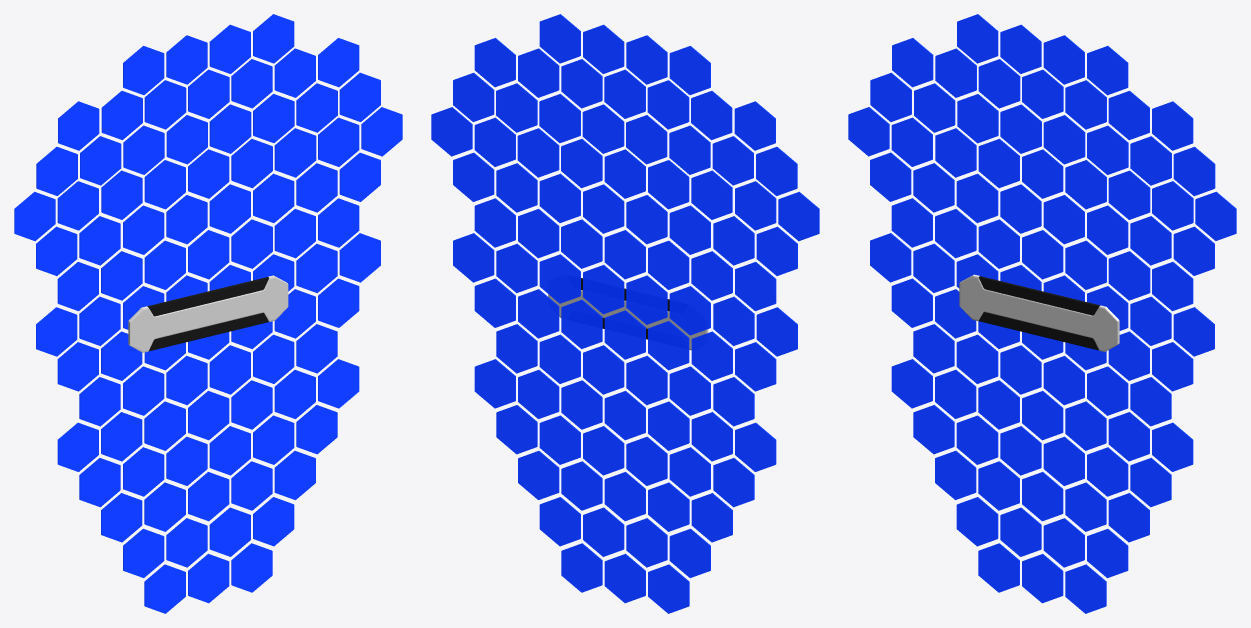
Rendered from Shield.FBX.
3 renders of one model, left to right at view 1: azimuth 30°, elevation 25°; view 2: azimuth 150°, elevation 25°; view 3: azimuth 330°, elevation 25°, orthographic.
Visible parts, largest first — view 1: Box008, NGon014, NGon024, NGon006, NGon048, NGon064, NGon019, NGon020, NGon026, NGon036, NGon049, NGon066 (+80 smaller); view 2: NGon014, NGon024, NGon006, NGon048, NGon064, NGon019, NGon020, NGon026, NGon036, NGon049, NGon052, NGon060 (+78 smaller); view 3: Box008, NGon042, NGon038, NGon024, NGon068, NGon081, NGon091, NGon003, NGon006, NGon014, NGon069, NGon080 (+80 smaller).
Part boxes in pixels (x1,y1,x2,y2): Box008: (128, 275, 288, 352); NGon014: (274, 128, 316, 177); NGon024: (144, 80, 186, 129); NGon006: (209, 104, 251, 153); NGon048: (296, 243, 337, 293); NGon064: (296, 324, 337, 373); NGon019: (57, 181, 98, 230); NGon020: (14, 191, 55, 241); NGon026: (58, 101, 99, 150); NGon036: (209, 184, 250, 233); NGon049: (339, 233, 380, 282); NGon066: (209, 345, 250, 394); NGon014: (517, 128, 559, 177); NGon024: (647, 80, 689, 129); NGon006: (582, 104, 624, 153); NGon048: (496, 243, 537, 293); NGon064: (496, 324, 537, 373); NGon019: (735, 181, 776, 230); NGon020: (778, 191, 819, 241); NGon026: (734, 101, 775, 150); NGon036: (583, 184, 624, 233); NGon049: (453, 233, 494, 282); NGon052: (626, 275, 667, 324); NGon060: (604, 310, 645, 359); Box008: (959, 274, 1119, 351); NGon042: (1108, 251, 1150, 300); NGon038: (956, 173, 998, 223); NGon024: (978, 59, 1020, 108); NGon068: (956, 334, 998, 383); NGon081: (956, 415, 998, 464); NGon091: (956, 497, 998, 546); NGon003: (1173, 146, 1215, 196); NGon006: (1043, 115, 1085, 164); NGon014: (1108, 170, 1150, 219); NGon069: (913, 324, 954, 373); NGon080: (1000, 426, 1041, 475).
Bounding box in the file's own units: 82.53 × 117 × 0.9931.
